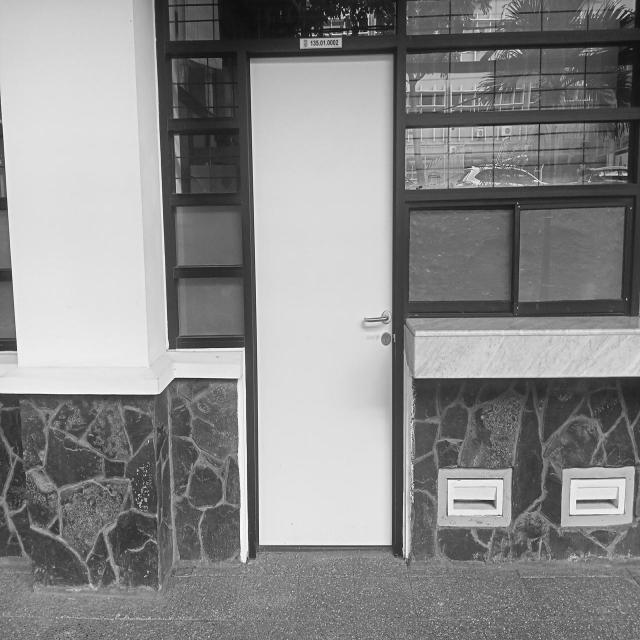door: (236, 34, 406, 554)
